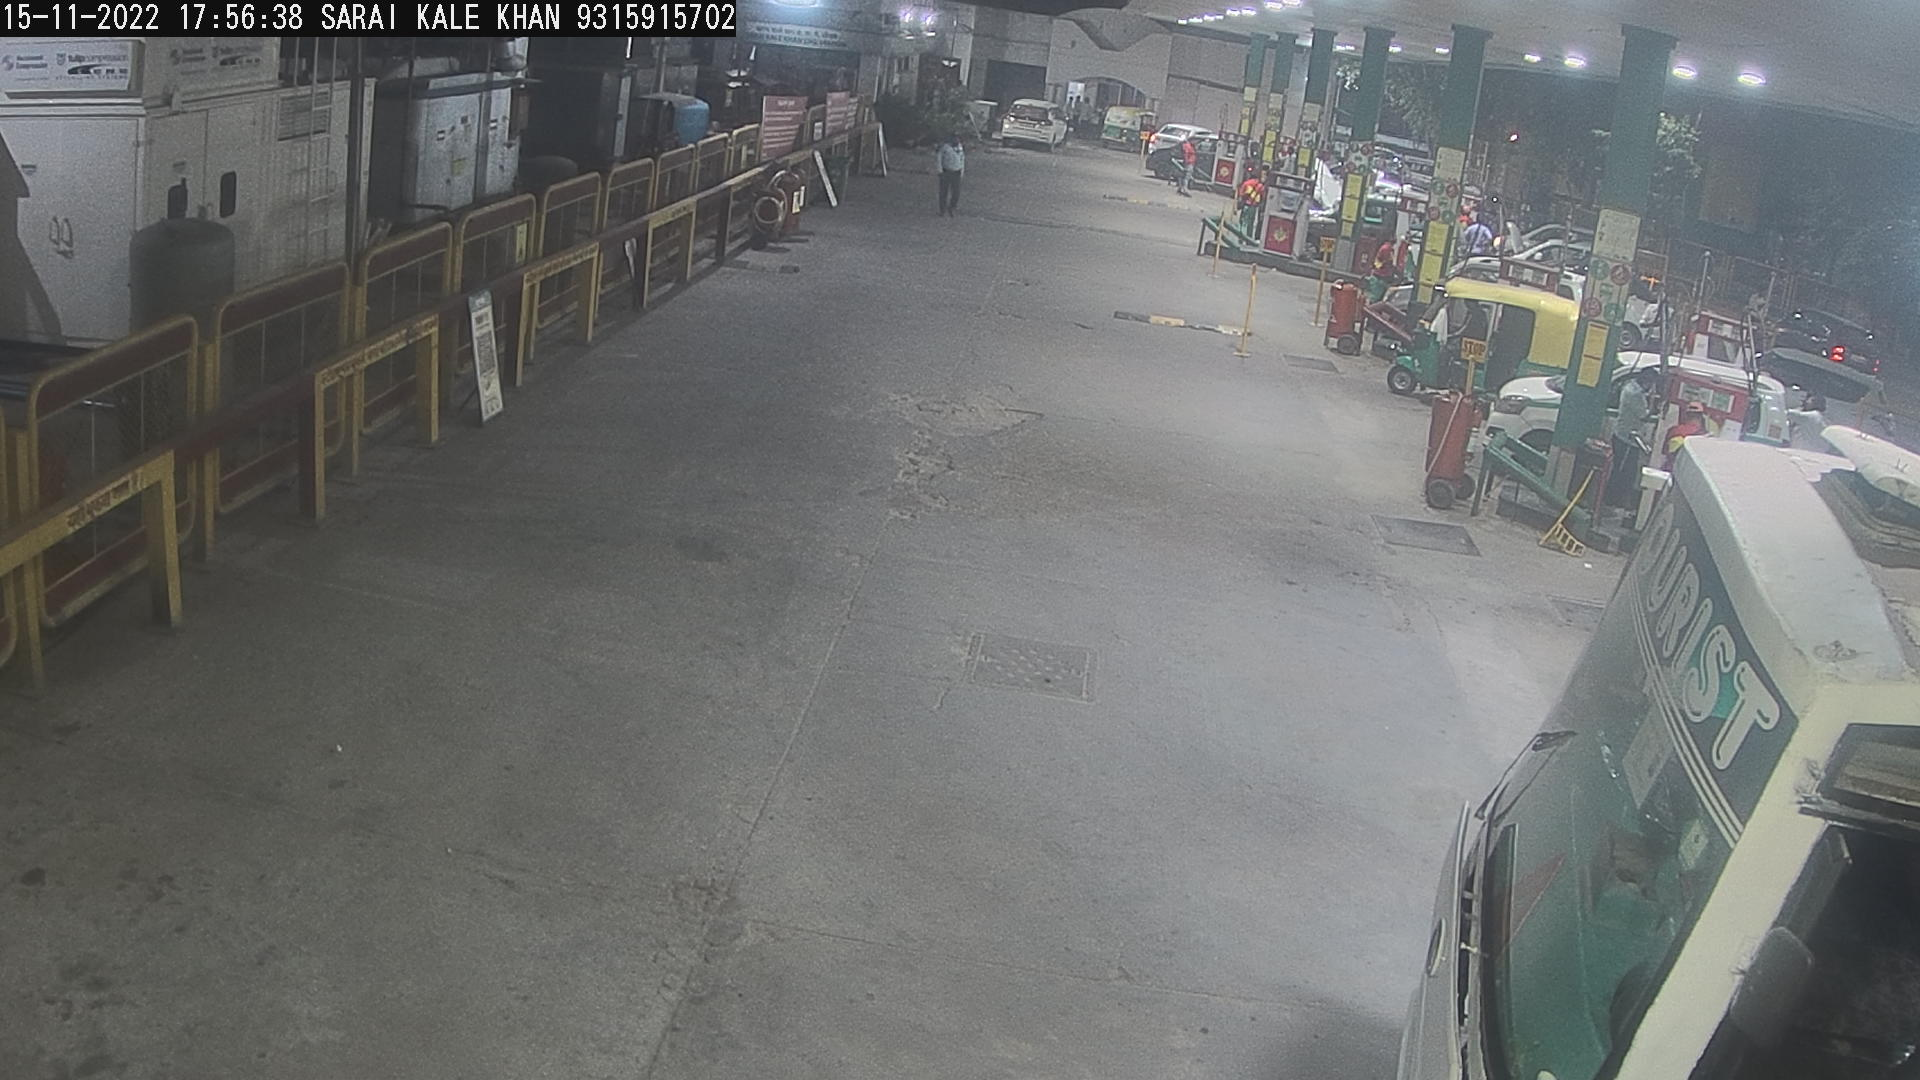Auto: (1375, 266, 1578, 450), (1081, 94, 1158, 164)
Car: (1725, 339, 1900, 471), (1416, 224, 1600, 323), (1469, 335, 1572, 504), (1753, 295, 1891, 404), (1137, 123, 1249, 206), (981, 86, 1089, 171), (1468, 212, 1600, 276), (1298, 181, 1366, 280), (1139, 109, 1226, 175), (1356, 167, 1443, 231), (1366, 131, 1441, 177), (1303, 149, 1354, 215), (1399, 142, 1447, 200), (1362, 142, 1418, 185)
HMV: (1373, 407, 1917, 1077)
Others: (1654, 396, 1713, 483), (1232, 154, 1275, 266), (1362, 220, 1411, 318), (1449, 196, 1480, 252)
Others Other: (1226, 252, 1265, 367), (1447, 320, 1493, 413), (1305, 224, 1335, 338), (1203, 196, 1232, 287), (1134, 120, 1154, 181)
